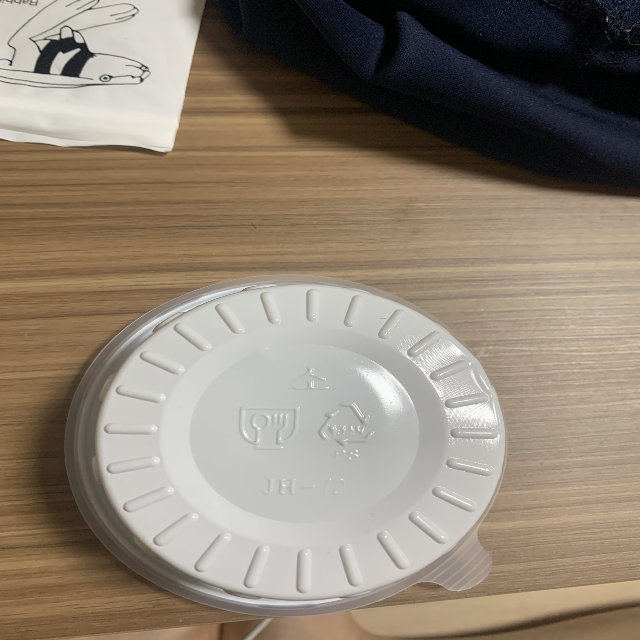ps: (315, 397, 377, 463)
